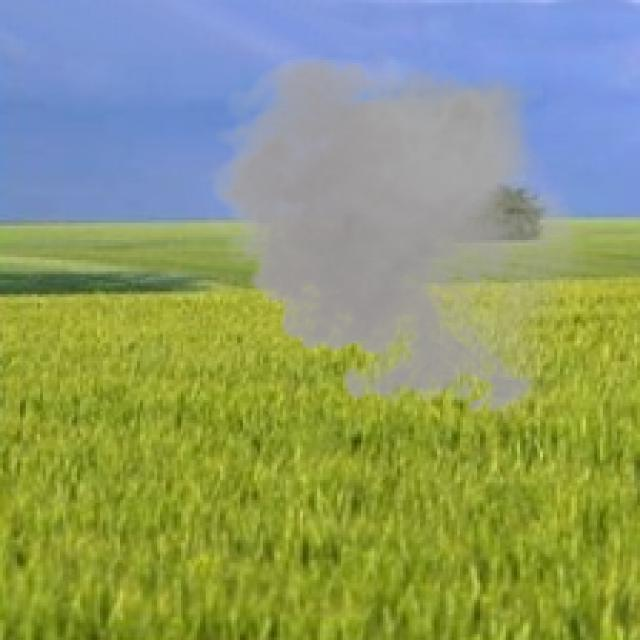smoke: (197, 43, 597, 426)
